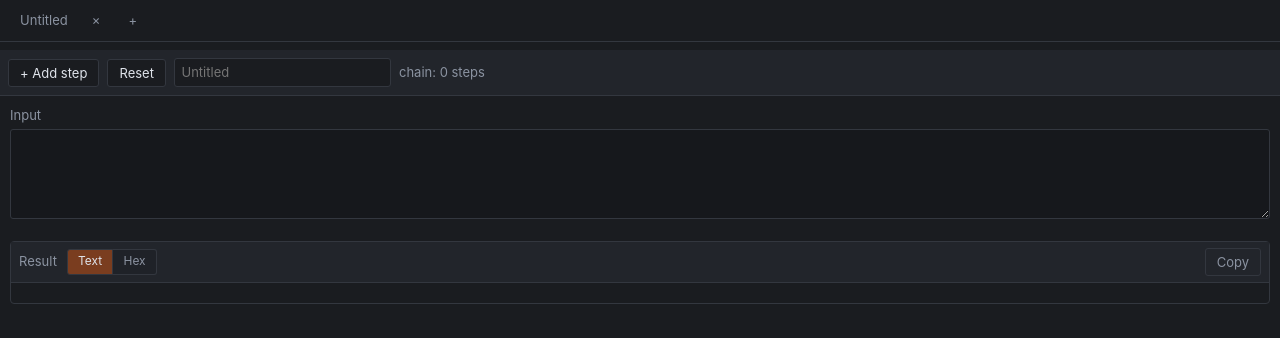
Test: decoder tabs › labels a tab by its payload until it is renamed
In the text box named "decoder input": (640, 174) [10,129,1270,219], type "eyJhbGciOi"
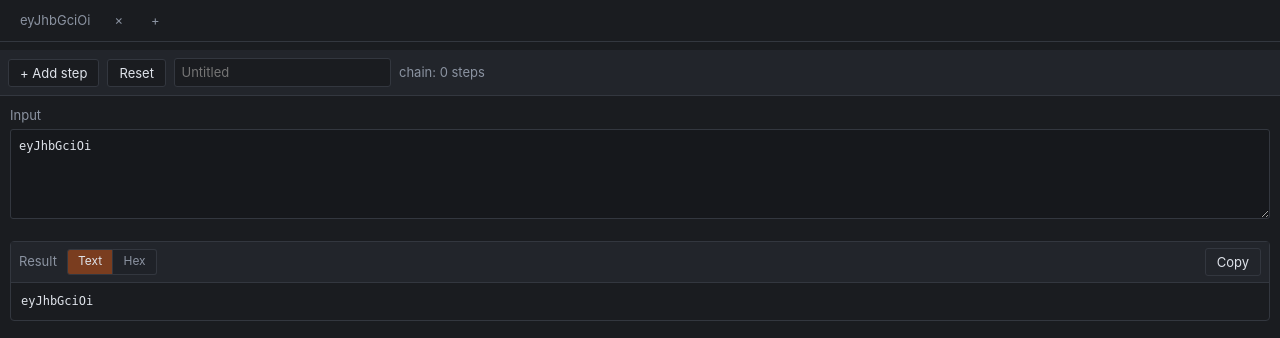
Expected: the button "eyJhbGciOi" is shown, [8,6,102,35]
In the field named "Tab name": (282, 73) [174,58,391,87], type "jwt"
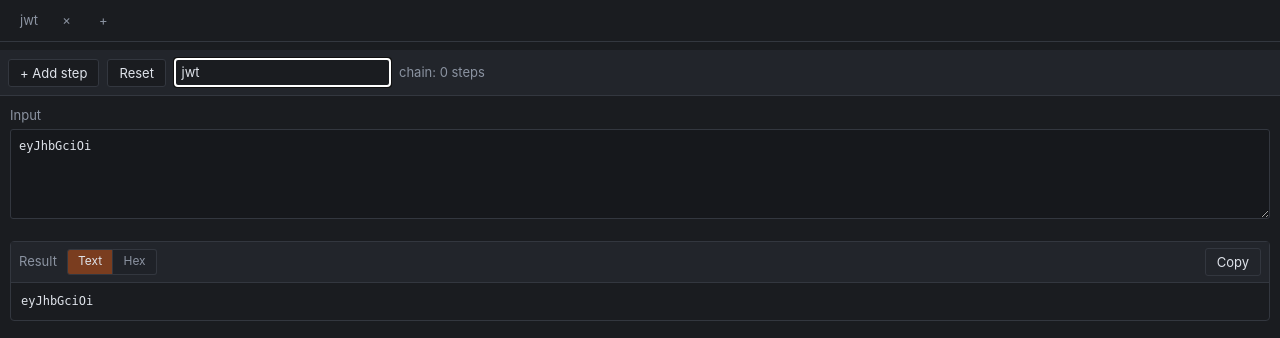
Expected: the button "jwt" is shown, [8,6,50,35]
